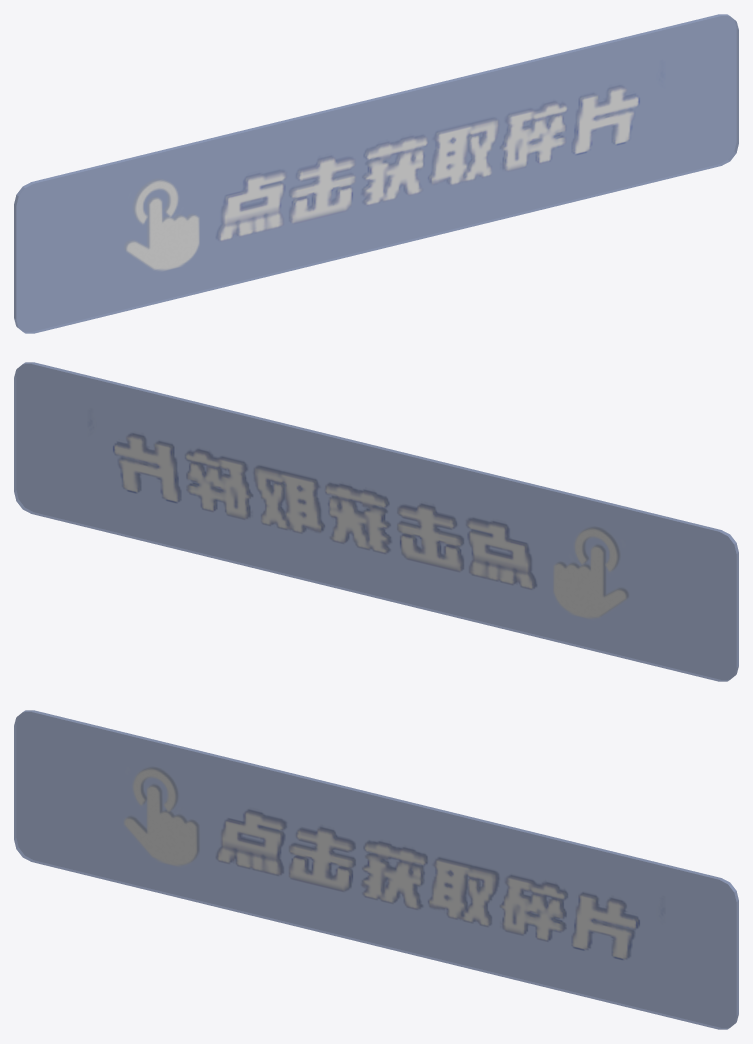
The model's file is dianji.glb.
3 renders of one model, top to bottom at view 1: azimuth 30°, elevation 25°; view 2: azimuth 150°, elevation 25°; view 3: azimuth 330°, elevation 25°, orthographic.
Parts seen in each view (by area): view 1: 平面; view 2: 平面; view 3: 平面.
Boxes of the visible parts, x1=… form: 平面: x1=14, y1=14, x2=738, y2=333; 平面: x1=14, y1=362, x2=738, y2=681; 平面: x1=14, y1=710, x2=738, y2=1029.
Bounding box in the file's own units: 4.87 × 0.9656 × 0.0277.
1 material, 1 textured.
